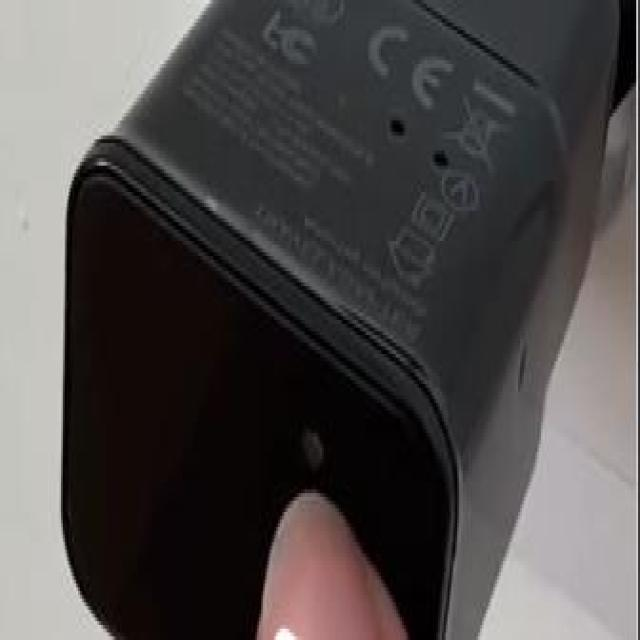hidden camera: (292, 402, 339, 499)
